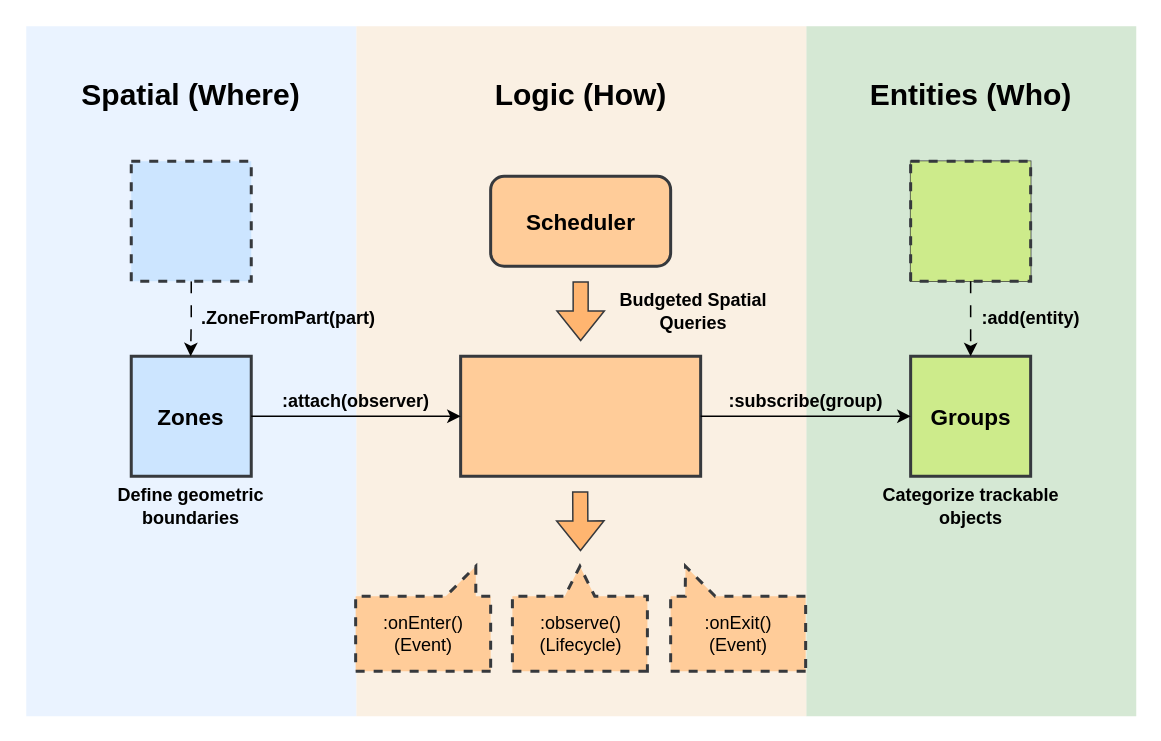
Some shapes in this 1161 by 741 pixel diagram are drawn without their labels. The shapes that lost their labels are listed below. From the top down, each one's centre as x and y in pixels, then its label:
At point (190, 220): "Part / CFrame (Input)".
At point (969, 220): "Part / Table / Model (Input)".
At point (579, 415): "Observers".
